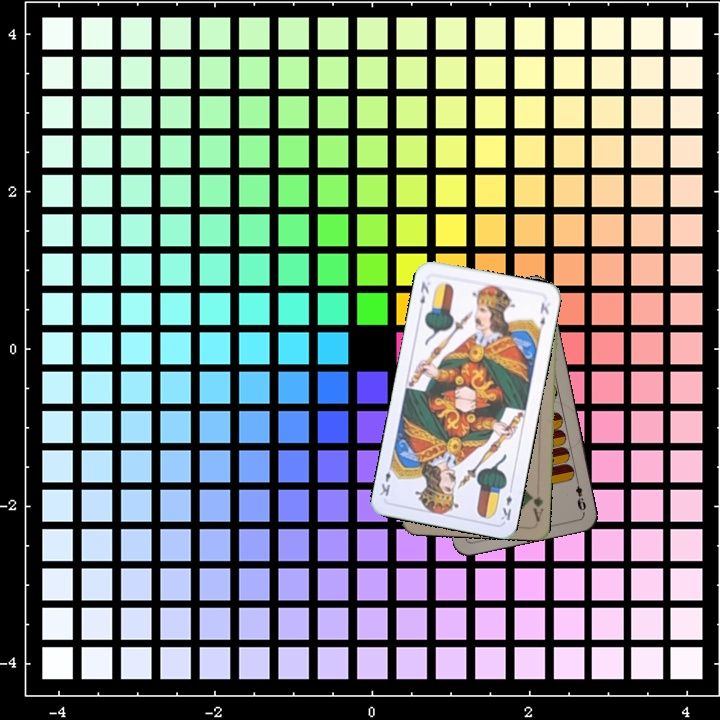E9: (571, 475, 589, 513)
EK: (497, 483, 515, 523), (416, 277, 431, 306)
GA: (527, 492, 546, 524)
